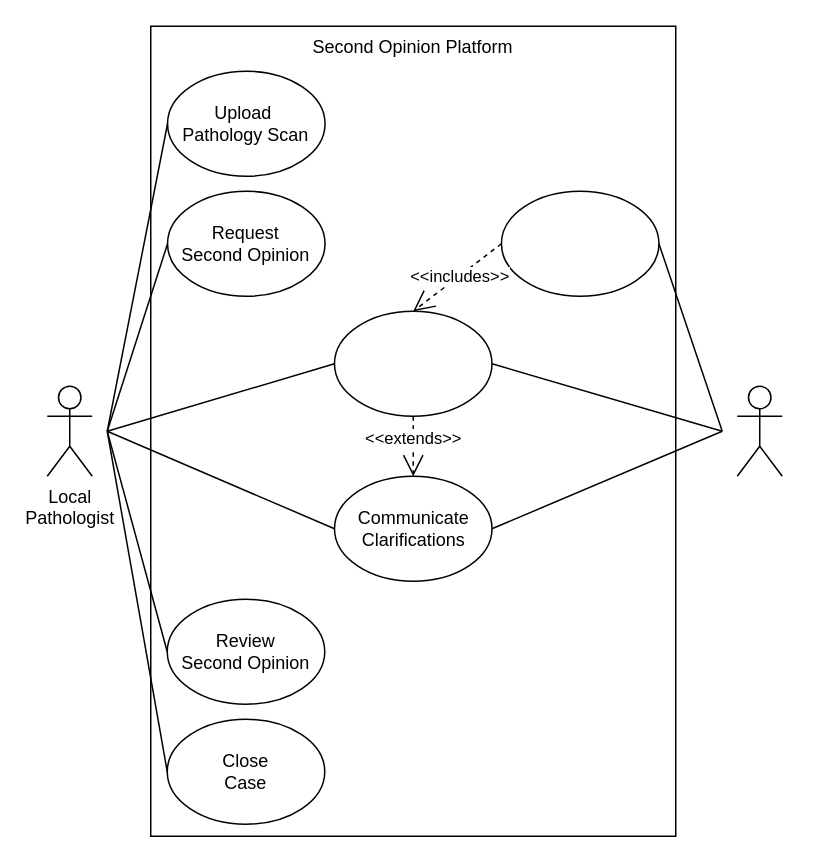
Image size: 818x863. Some labels were removed from this diagram. Here are the shapes that lost their labels. From the top down, the centre of each, then its label:
At (579,243): "Provide Second Opinion".
At (412,363): "View Pathology Scan".
At (759,430): "Remote Expert".
